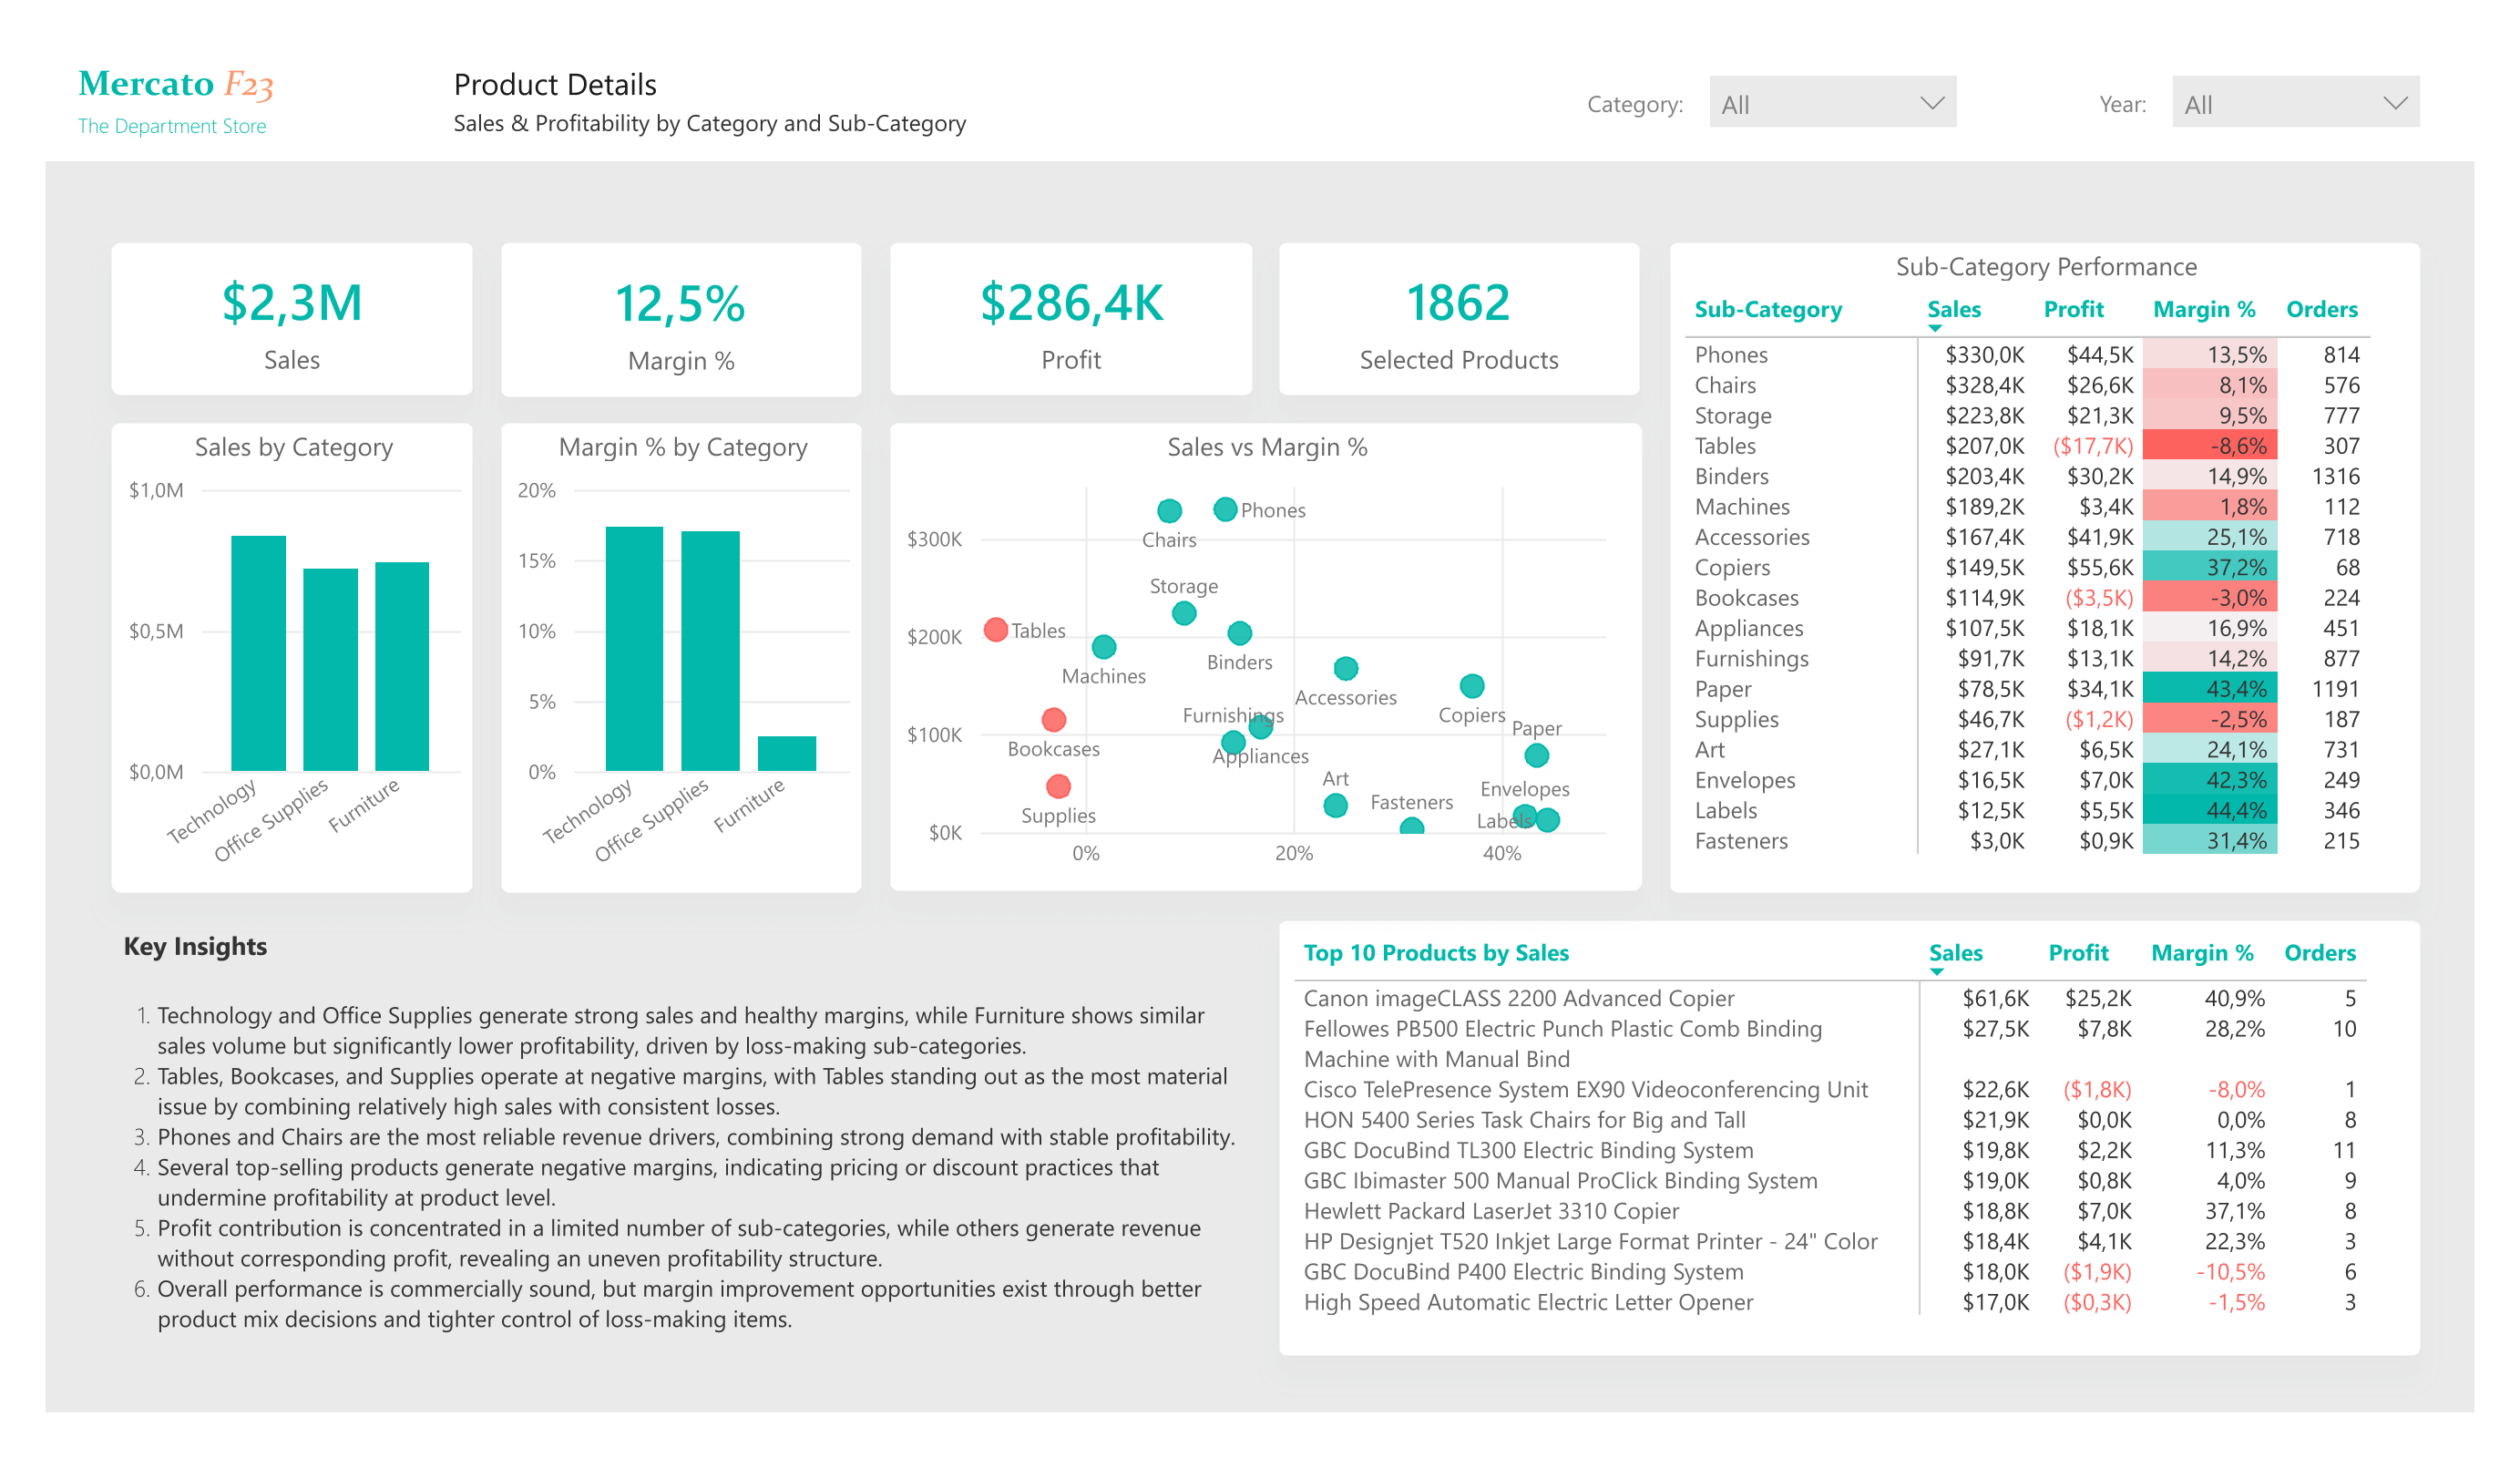

The page's visual inventory and layout, read from the dashboard file:
{"tool":"powerbi","page":{"name":"Product Details","canvas":[1280,720],"ordinal":2},"visuals":[{"type":"textbox","box":[0,0,1280,61],"z":0},{"type":"textbox","box":[210,4.4,426.7,54.4],"z":1000},{"type":"pivotTable","title":"Sub-Category Performance","fields":{"Values":["Measure Table.Total Sales","Measure Table.Total Profit","Measure Table.Profit Margin %","Measure Table.Total Orders"],"Rows":["Dim_Product.Sub-Category"]},"box":[855.6,104.4,395,341.6],"z":2000},{"type":"slicer","fields":{"Values":["Dim_Date.Year"]},"box":[1110.9,6.3,150,45.5],"z":3000},{"type":"textbox","box":[1016.2,15.2,95.3,37],"z":4000},{"type":"slicer","fields":{"Values":["Dim_Product.Category"]},"box":[867,6.3,150,45.5],"z":5000},{"type":"textbox","box":[773,15.4,95.5,36.4],"z":6000},{"type":"card","fields":{"Values":["Measure Table.Total Sales"]},"box":[35,104,190.5,80],"z":7000},{"type":"card","fields":{"Values":["Measure Table.Total Profit"]},"box":[445.1,104,190.6,80],"z":8000},{"type":"card","fields":{"Values":["Measure Table.Profit Margin %"]},"box":[239.8,104.4,190.6,80.2],"z":9000},{"type":"card","fields":{"Values":["Measure Table.Selected Products"]},"box":[650,104,190.5,80],"z":10000},{"type":"pivotTable","title":"Top10","fields":{"Rows":["Dim_Product.Product Name"],"Values":["Measure Table.Total Sales","Measure Table.Total Profit","Measure Table.Profit Margin %","Measure Table.Total Orders"]},"box":[649.7,460.5,601,229],"z":11000},{"type":"textbox","box":[36.3,458.8,604,230.9],"z":15000},{"type":"scatterChart","title":"Sales vs Margin %","fields":{"X":["Measure Table.Profit Margin %"],"Y":["Measure Table.Total Sales"],"Category":["Dim_Product.Sub-Category"]},"box":[445.1,199,395.9,245.8],"z":16000},{"type":"columnChart","title":"Sales by Category","fields":{"Category":["Dim_Product.Category"],"Y":["Measure Table.Total Sales"]},"box":[35.4,199,190,246.7],"z":17000},{"type":"columnChart","title":"Margin % by Category","fields":{"Category":["Dim_Product.Category"],"Y":["Measure Table.Profit Margin %"]},"box":[239.8,199,190,246.7],"z":18000},{"type":"textbox","box":[12.2,3,133.3,54],"z":19000}]}

Visuals, with their boxes in screenshot pixels (x1, y1, x2, y2):
textbox: crop(46, 46, 2474, 161)
textbox: crop(444, 54, 1254, 157)
"Sub-Category Performance" pivotTable: crop(1669, 244, 2419, 892)
slicer - Dim_Date.Year: crop(2154, 57, 2438, 144)
textbox: crop(1974, 75, 2155, 145)
slicer - Dim_Product.Category: crop(1691, 57, 1975, 144)
textbox: crop(1512, 75, 1694, 144)
card - Measure Table.Total Sales: crop(112, 243, 474, 395)
card - Measure Table.Total Profit: crop(890, 243, 1252, 395)
card - Measure Table.Profit Margin %: crop(500, 244, 862, 396)
card - Measure Table.Selected Products: crop(1279, 243, 1641, 395)
"Top10" pivotTable: crop(1278, 919, 2419, 1354)
textbox: crop(115, 917, 1261, 1355)
"Sales vs Margin %" scatterChart: crop(890, 424, 1642, 890)
"Sales by Category" columnChart: crop(113, 424, 473, 892)
"Margin % by Category" columnChart: crop(500, 424, 861, 892)
textbox: crop(68, 51, 322, 154)
